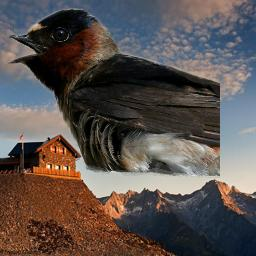Swallow: (4, 8, 220, 178)
